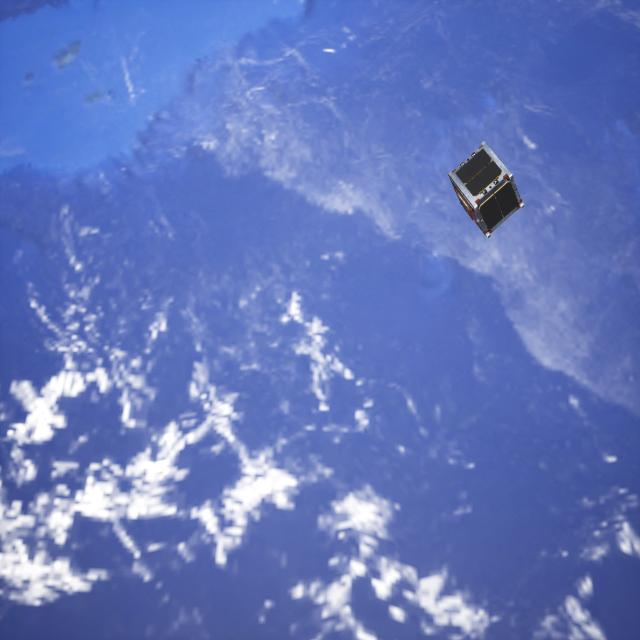satellite: (444, 139, 524, 241)
